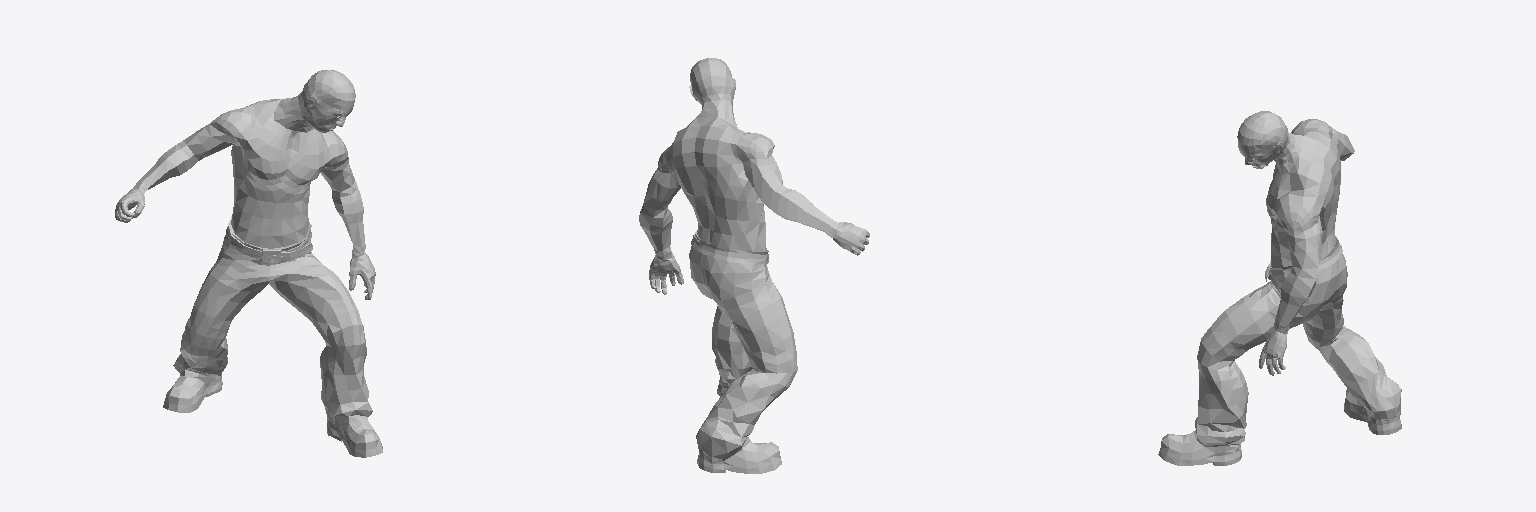
3 views of the same model, side by side, from view 1: azimuth 30°, elevation 25°; view 2: azimuth 150°, elevation 25°; view 3: azimuth 270°, elevation 25° (orthographic).
Visible parts, largest first — view 1: Thug; view 2: Thug; view 3: Thug.
Boxes of the visible parts, x1,y1,x2,y2 form: Thug: [115, 70, 382, 457]; Thug: [639, 58, 869, 473]; Thug: [1158, 111, 1401, 465].
Size of the model in its own units: 112 by 158 by 99.9.